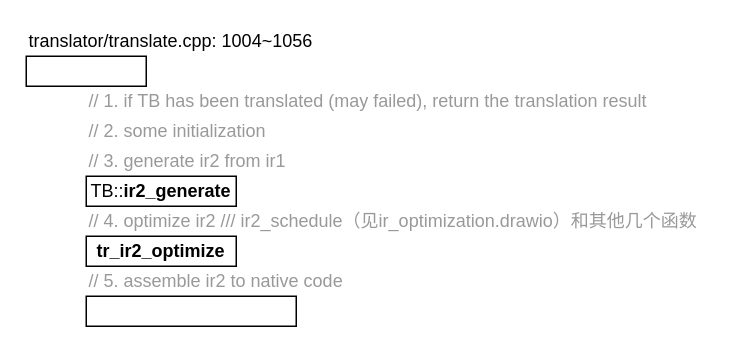
The diagram is 743 pixels wide and 353 high, and some of its shapes have lost their labels. Here are the shapes that lost their labels. From the top down, the centre of each, then its label:
At (x=85, y=70): "TB:: translate".
At (x=190, y=310): "ADDR tr_ir2_assemble".
